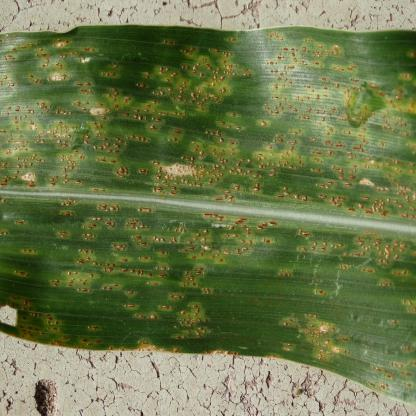corn rust leaf: (1, 23, 416, 398)
